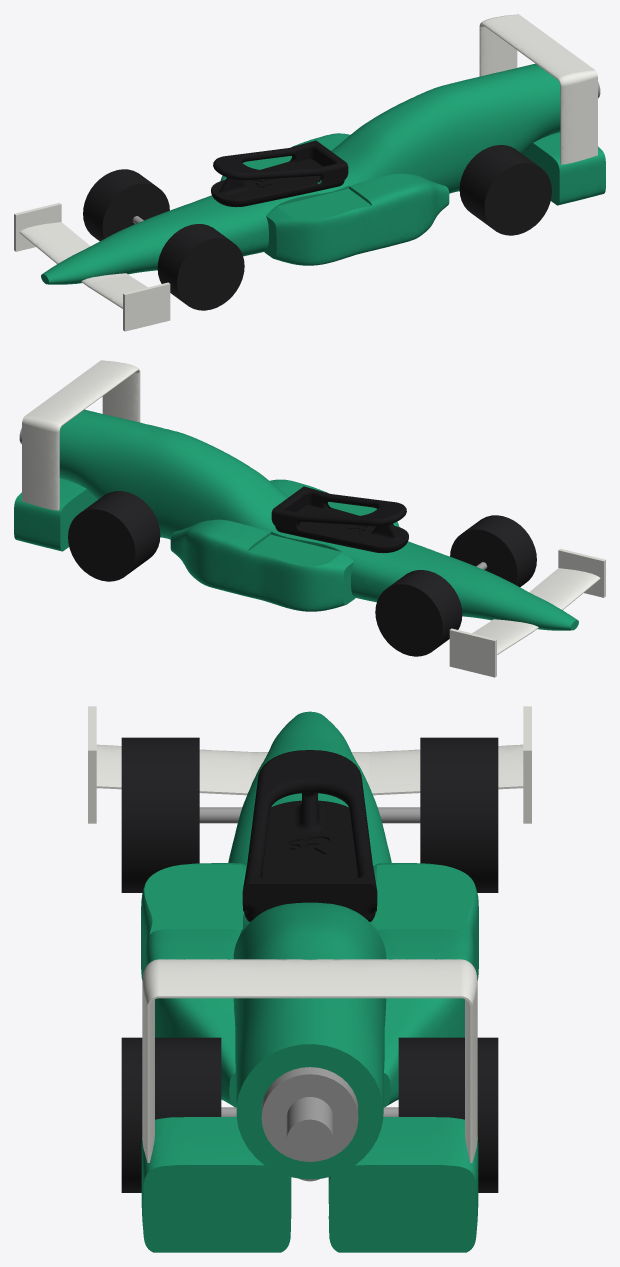
The model's file is concept-v3.glb.
3 views of the same model, one above another, from view 1: azimuth 30°, elevation 25°; view 2: azimuth 150°, elevation 25°; view 3: azimuth 270°, elevation 25° (orthographic). The views are drawn at different scales.
Parts seen in each view (by area): view 1: Concept V3 Hoop; view 2: Concept V3 Hoop; view 3: Concept V3 Hoop.
Part boxes in pixels (x1=…): Concept V3 Hoop: x1=14, y1=14, x2=605, y2=331; Concept V3 Hoop: x1=14, y1=360, x2=605, y2=677; Concept V3 Hoop: x1=88, y1=706, x2=531, y2=1252.
Size of the model in its own units: 0.236 by 0.0572 by 0.0826.
